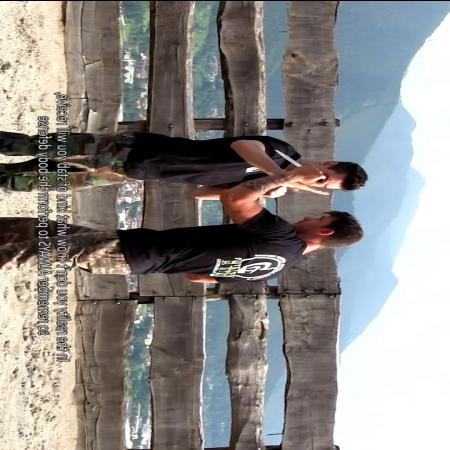long weapon: (271, 146, 331, 186)
